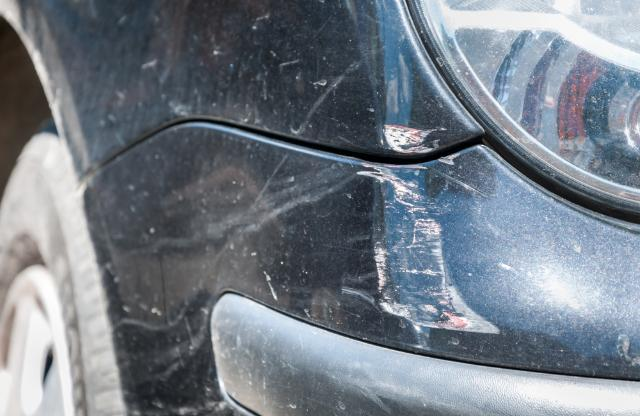scratch: (357, 152, 474, 330), (384, 122, 447, 153)
